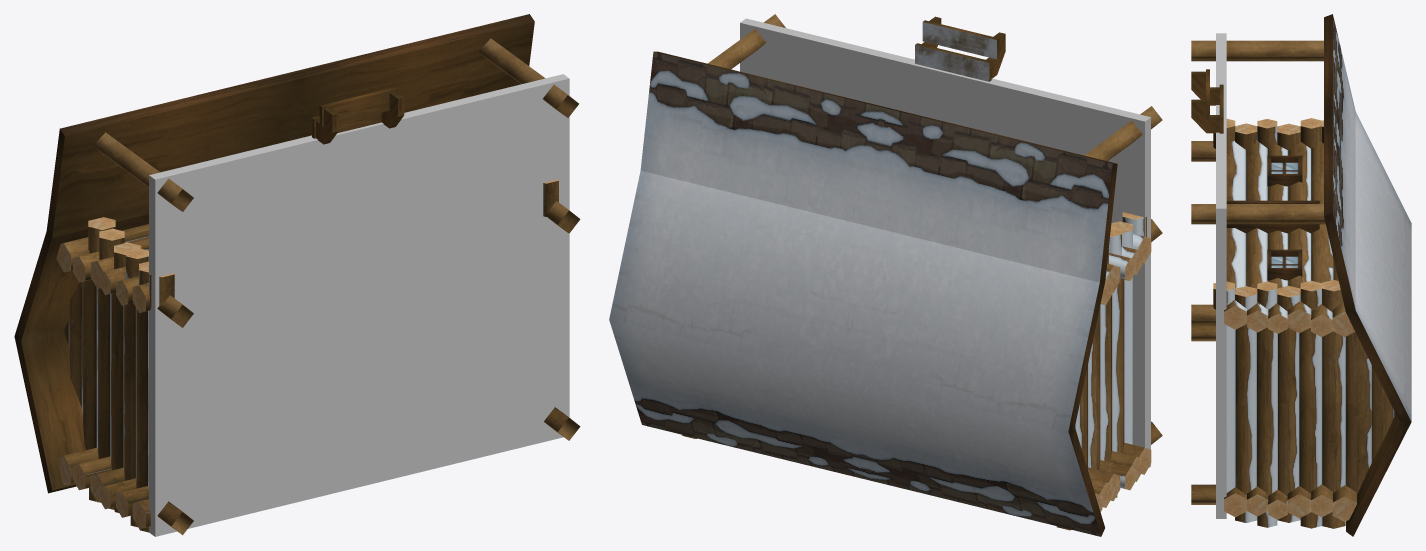
File: Log_House_D.fbx
3 views of the same model, side by side, from view 1: azimuth 30°, elevation 25°; view 2: azimuth 150°, elevation 25°; view 3: azimuth 270°, elevation 25° (orthographic). The views are drawn at different scales.
Visible parts, largest first — view 1: Log_House_D; view 2: Log_House_D; view 3: Log_House_D.
Boxes of the visible parts, left/top/right/bottom form: Log_House_D: left=14, top=14, right=580, bottom=536; Log_House_D: left=609, top=14, right=1162, bottom=536; Log_House_D: left=1191, top=14, right=1411, bottom=536.
Size of the model in its own units: 122 by 101 by 57.17.
